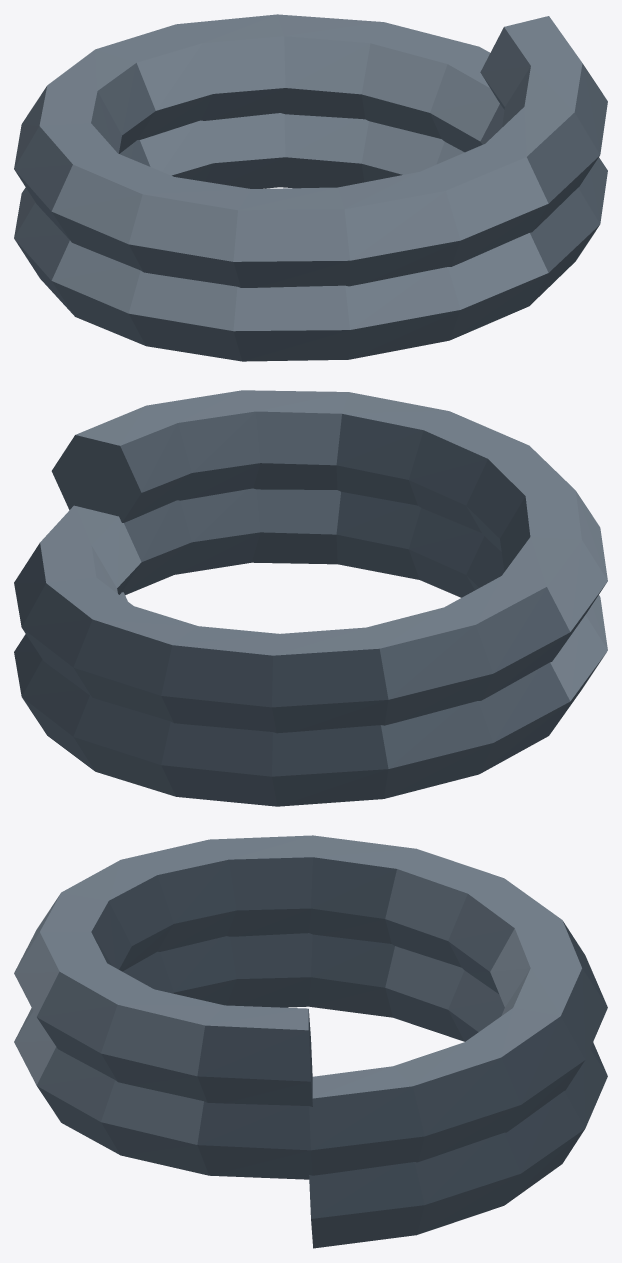
Rendered from Spring_Coil.gltf.
3 views of the same model, one above another, from view 1: azimuth 30°, elevation 25°; view 2: azimuth 150°, elevation 25°; view 3: azimuth 270°, elevation 25° (orthographic).
Parts seen in each view (by area): view 1: Spring_Coil_baked; view 2: Spring_Coil_baked; view 3: Spring_Coil_baked.
Part boxes in pixels (box(x1,y1,x2,y2)): Spring_Coil_baked: box(14, 14, 607, 361); Spring_Coil_baked: box(14, 390, 607, 806); Spring_Coil_baked: box(14, 835, 607, 1248).
Size of the model in its own units: 0.484 by 0.1962 by 0.484.
